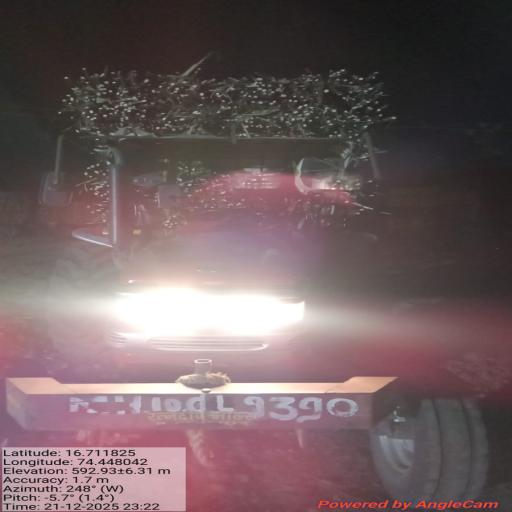number_plate: (57, 386, 371, 433)
